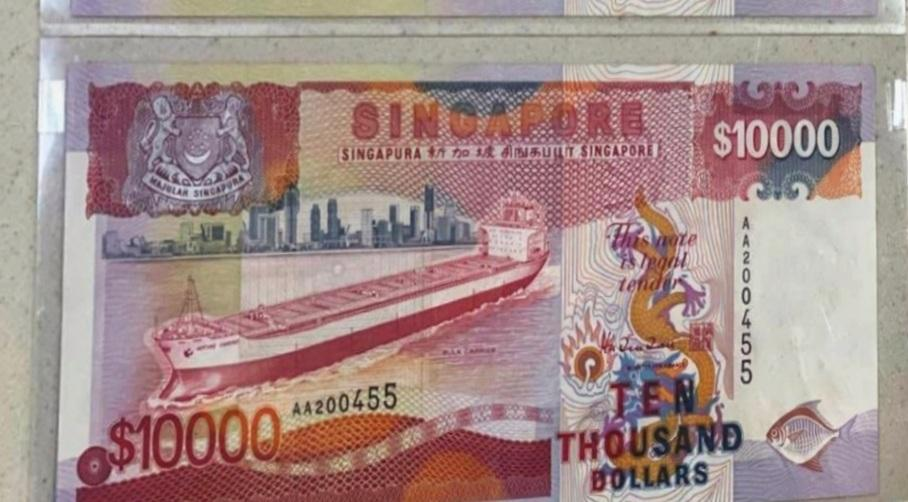10000SingaporeDollar: (67, 66, 872, 502)
